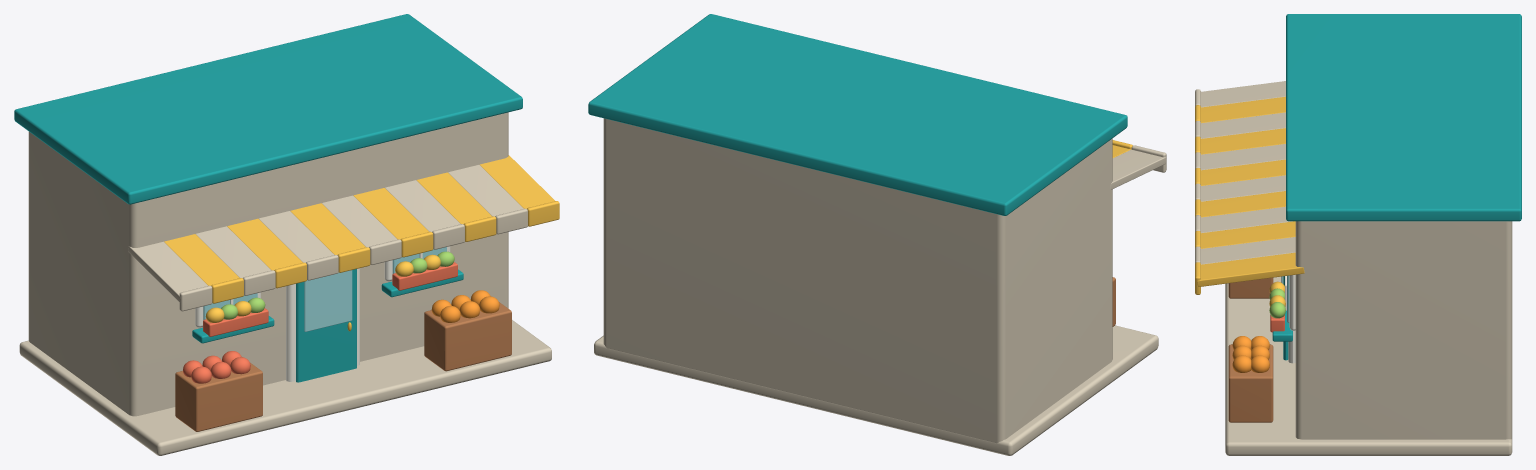
File: Market.fbx
3 renders of one model, left to right at view 1: azimuth 30°, elevation 25°; view 2: azimuth 150°, elevation 25°; view 3: azimuth 270°, elevation 25°, orthographic. The views are drawn at different scales.
Visible parts, largest first — view 1: GEO-Facade.001, GEO-Cornice.001, GEO-Foundation.001, GEO-ProduceTable.001, GEO-ProduceTable, GEO-Door.001, GEO-DoorGlass.001, GEO-Awning, GEO-Awning.011, GEO-Awning.003, GEO-Awning.010, GEO-Awning.006 (+24 smaller); view 2: GEO-Facade.001, GEO-Cornice.001, GEO-Foundation.001, GEO-Awning; view 3: GEO-Cornice.001, GEO-Facade.001, GEO-Foundation.001, GEO-ProduceTable.001, GEO-Awning.011, GEO-Awning.009, GEO-Awning.010, GEO-Awning.008, GEO-Awning, GEO-Awning.002, GEO-Awning.003, GEO-Awning.006 (+6 smaller).
Boxes of the visible parts, x1,y1,x2,y2 form: GEO-Facade.001: [28, 112, 508, 416]; GEO-Cornice.001: [14, 14, 522, 204]; GEO-Foundation.001: [19, 320, 551, 455]; GEO-ProduceTable.001: [424, 302, 511, 371]; GEO-ProduceTable: [175, 357, 262, 431]; GEO-Door.001: [296, 269, 356, 382]; GEO-DoorGlass.001: [304, 270, 352, 331]; GEO-Awning: [128, 241, 207, 302]; GEO-Awning.011: [480, 155, 554, 208]; GEO-Awning.003: [227, 218, 302, 270]; GEO-Awning.010: [448, 165, 523, 216]; GEO-Awning.006: [322, 195, 397, 247]; GEO-Facade.001: [603, 118, 1112, 443]; GEO-Cornice.001: [588, 14, 1127, 215]; GEO-Foundation.001: [594, 325, 1158, 455]; GEO-Awning: [1110, 149, 1166, 189]; GEO-Cornice.001: [1286, 14, 1521, 221]; GEO-Facade.001: [1295, 221, 1512, 439]; GEO-Foundation.001: [1225, 276, 1512, 455]; GEO-ProduceTable.001: [1228, 344, 1273, 422]; GEO-Awning.011: [1197, 252, 1304, 286]; GEO-Awning.009: [1201, 221, 1295, 248]; GEO-Awning.010: [1201, 237, 1295, 264]; GEO-Awning.008: [1201, 206, 1292, 233]; GEO-Awning: [1201, 81, 1285, 107]; GEO-Awning.002: [1201, 112, 1285, 138]; GEO-Awning.003: [1201, 128, 1285, 154]; GEO-Awning.006: [1201, 175, 1285, 201].
Bounding box in the file's own units: 7.3 × 4.29 × 5.13.
